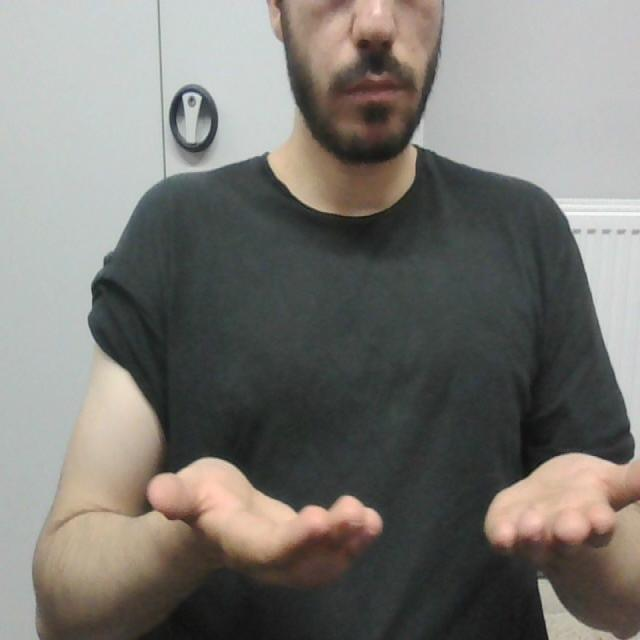Evet: (138, 447, 640, 596)
